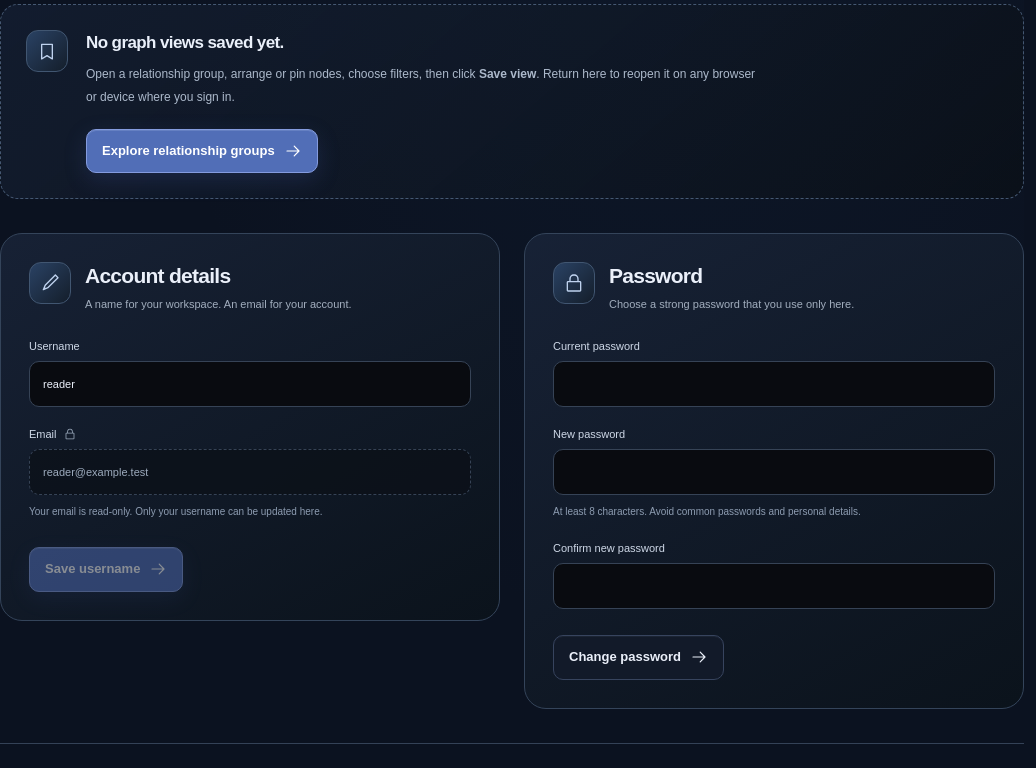
personal account profile › keeps the current session after a password change and signs out with its newly rotated CSRF
(page scrolled)
Expected: the field labelled "Username" holds "reader", [29, 361, 471, 407]
Type "old-test-password" into the password field labelled "Current password". click: (774, 384)
box: [553, 361, 995, 407]
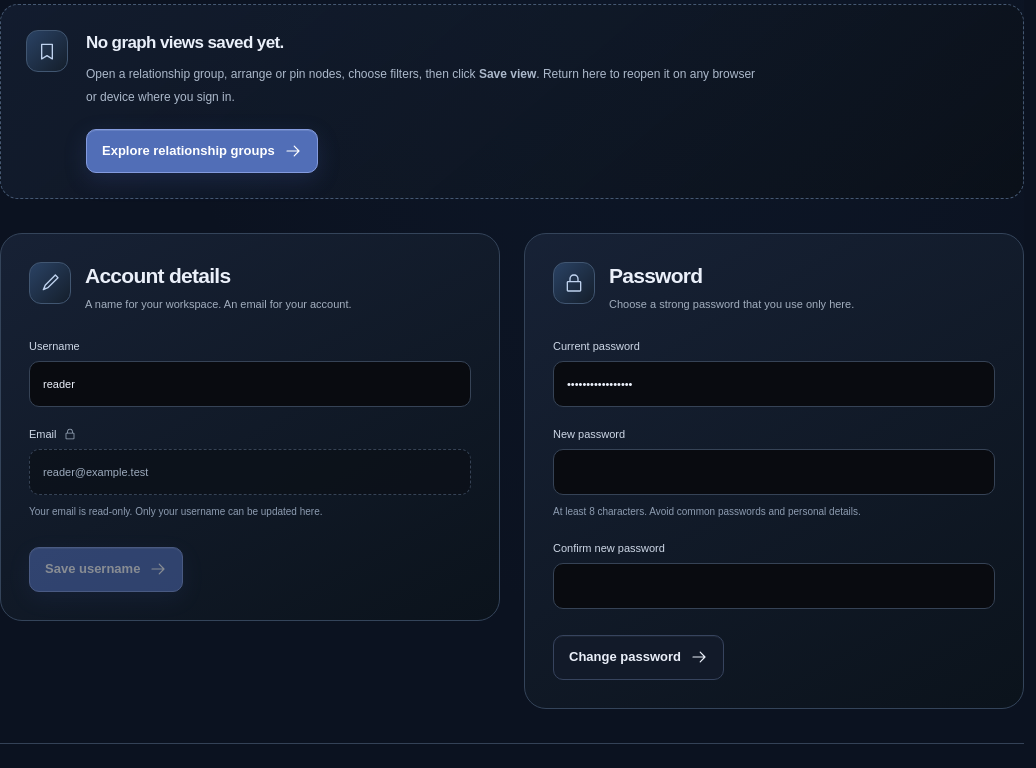
Type "new-strong-password" into the password field labelled "New password". click: (774, 472)
box: [553, 449, 995, 495]
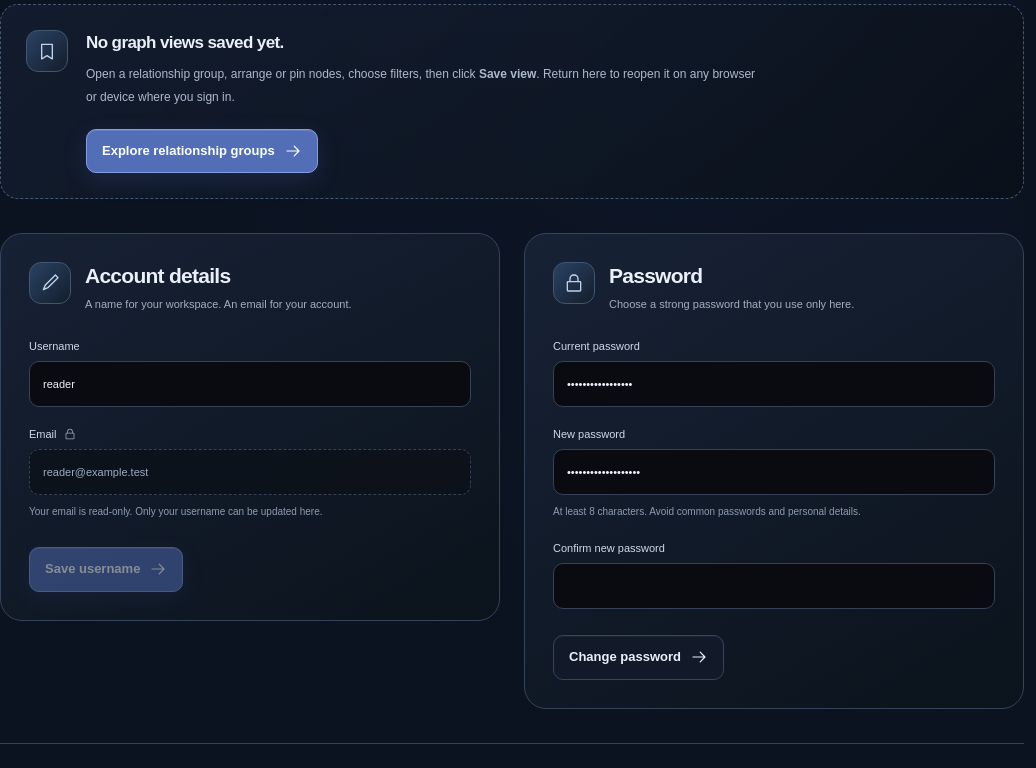
Type "new-strong-password" into the password field labelled "Confirm new password". click: (774, 586)
box: [553, 563, 995, 609]
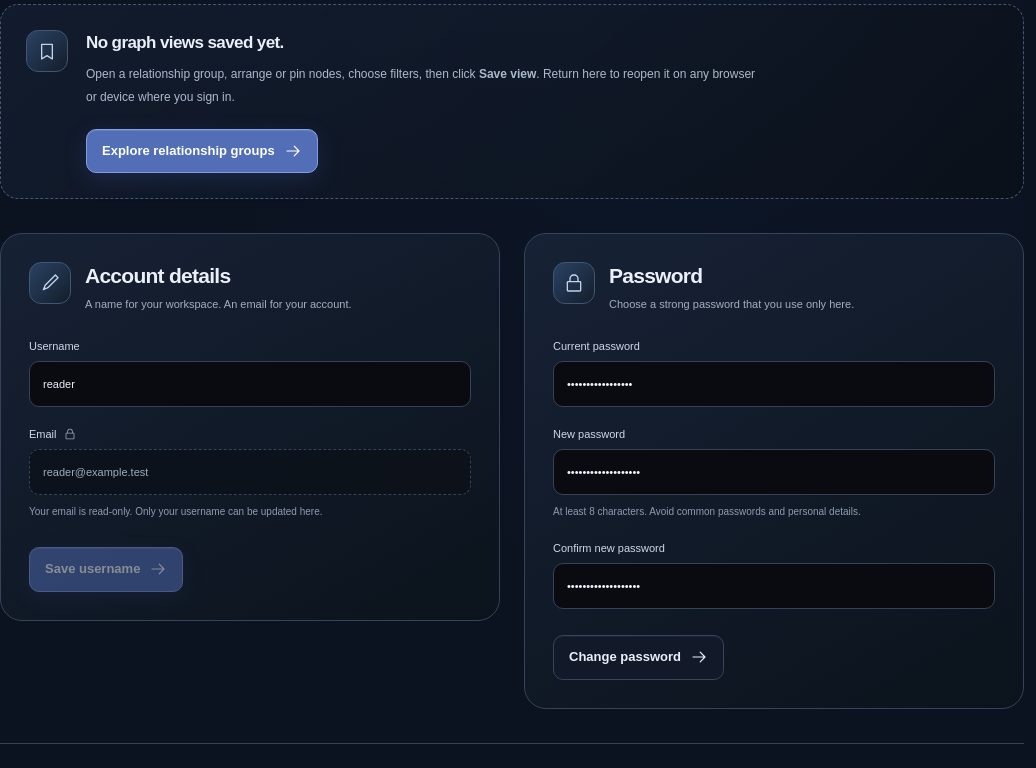
Click the button "Change password". click: (638, 657)
box: [553, 635, 724, 680]
(page scrolled)
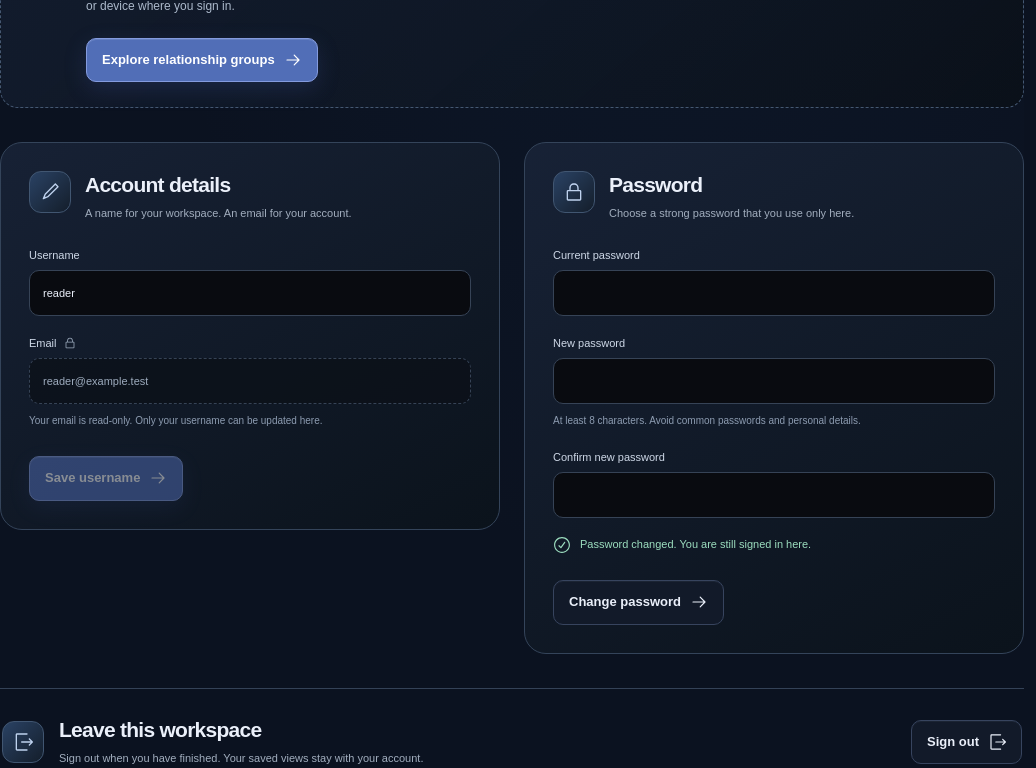
Expected: the message reads "Password changed. You are still signed in here.", [580, 538, 811, 550]
Expected: the password field labelled "Current password" is empty, [553, 270, 995, 316]
Click the button "Sign out". click: (966, 742)
box: [911, 720, 1022, 764]
(page scrolled)
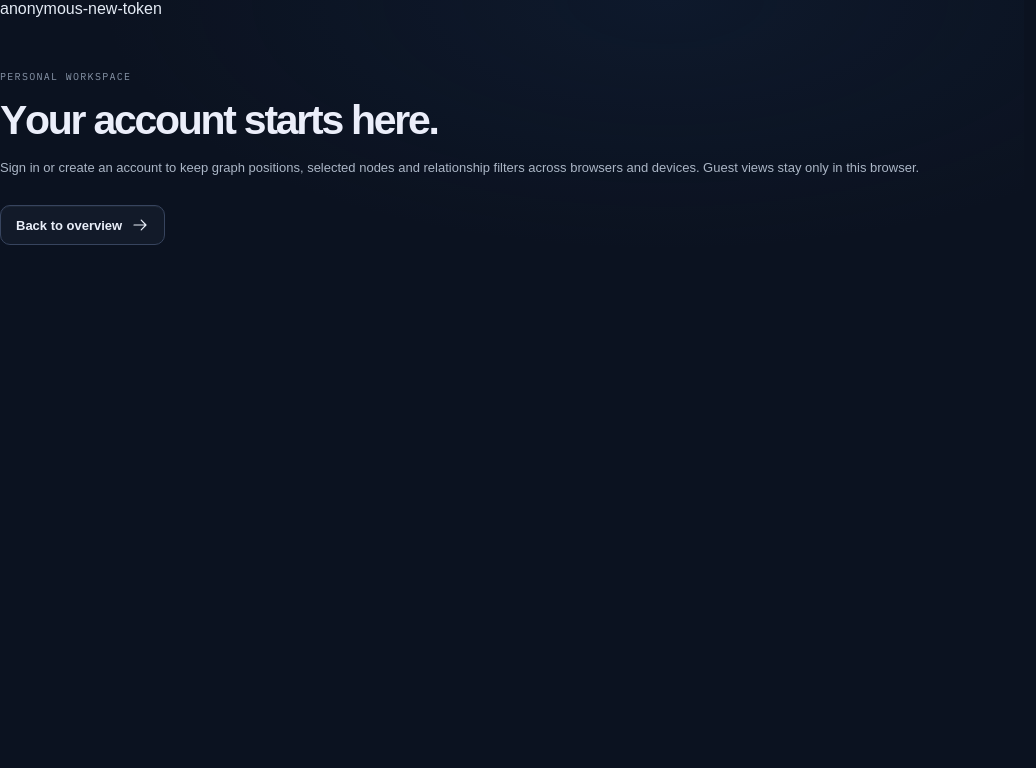
Expected: the heading named "Your account starts here." is shown, [0, 97, 438, 143]
